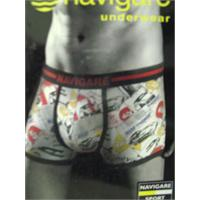mutande: (25, 61, 165, 169)
